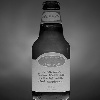beer: (30, 1, 72, 98)
